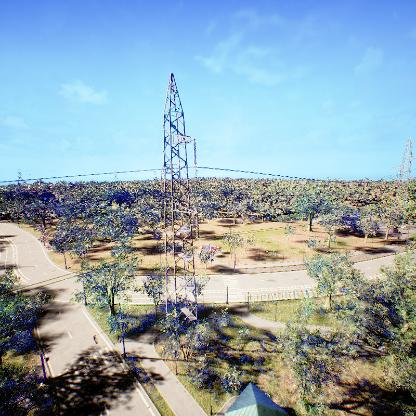tower: (155, 69, 202, 337)
